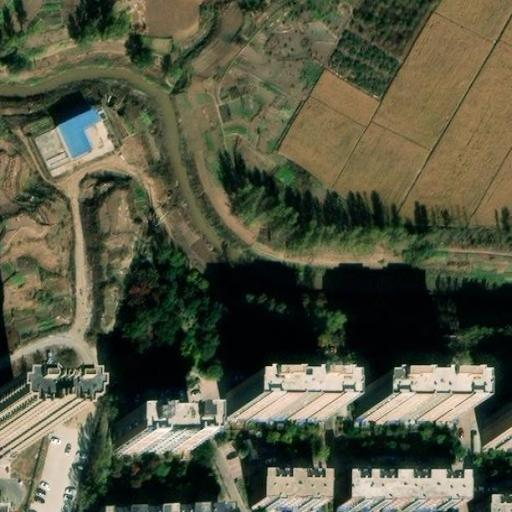building: (340, 478, 460, 506), (229, 390, 329, 417), (358, 392, 460, 418), (56, 108, 101, 161), (118, 422, 194, 452), (254, 476, 321, 505), (487, 418, 512, 444), (485, 496, 511, 512)
